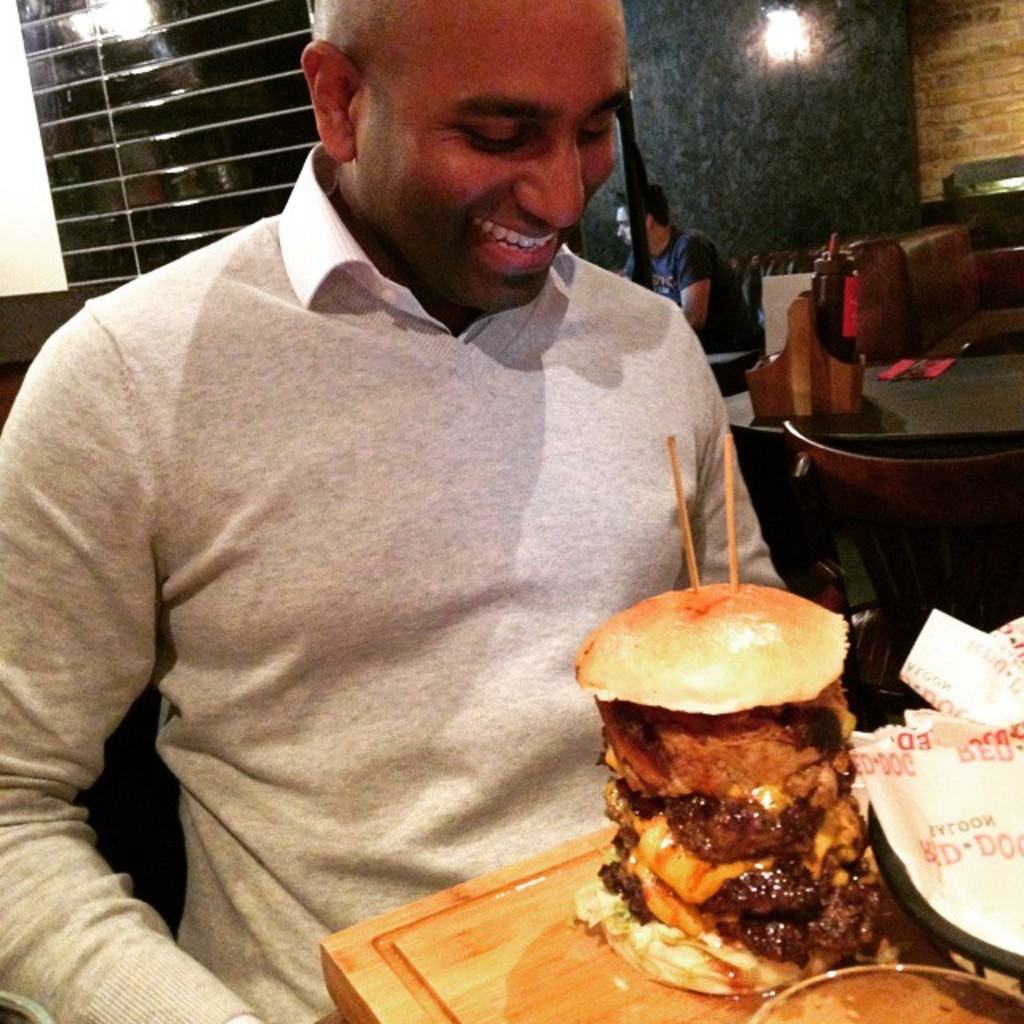Hamburger: (572, 583, 892, 1001)
